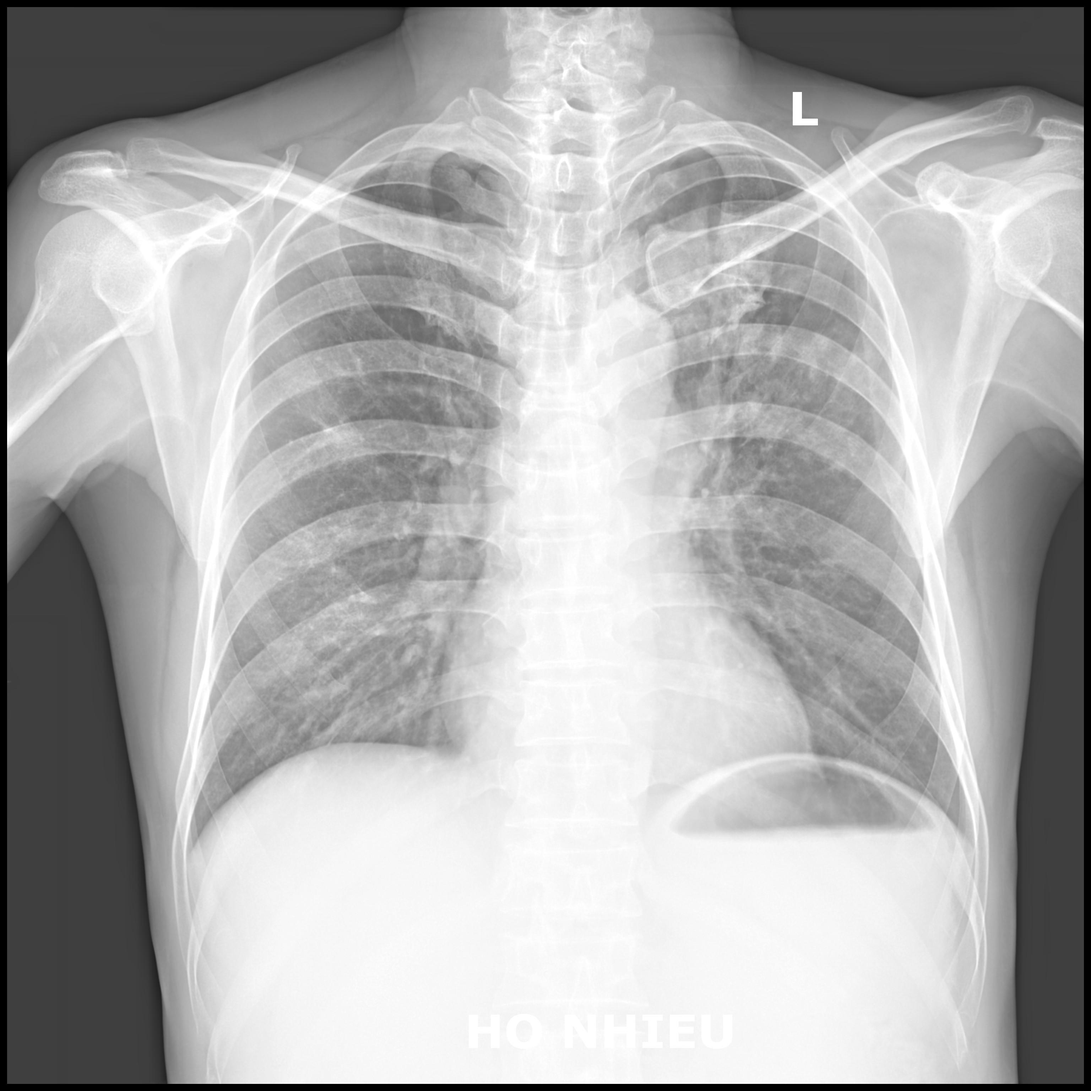Pulmonary fibrosis: (680, 265, 885, 466)
